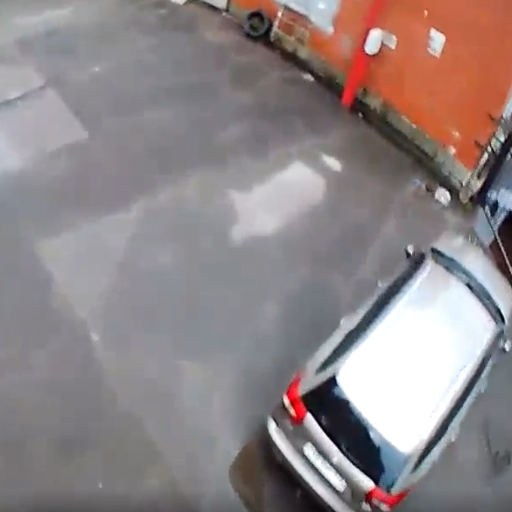Car: (266, 230, 511, 510)
